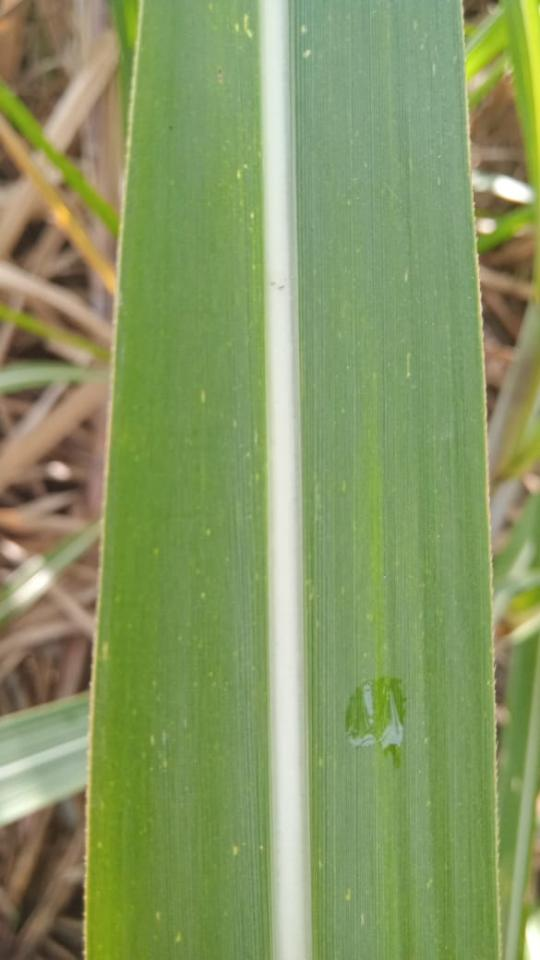Healthy: (80, 0, 522, 959)
